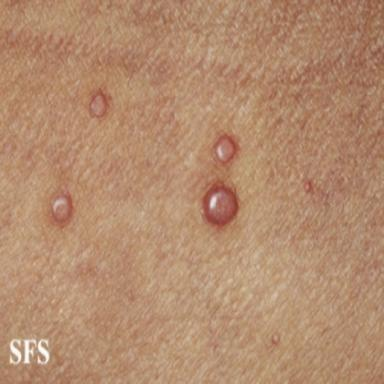Molluscum-Contagiosum: (203, 185, 238, 225), (51, 193, 72, 224), (215, 135, 236, 164), (89, 91, 107, 118), (271, 332, 281, 344), (304, 180, 312, 192)
